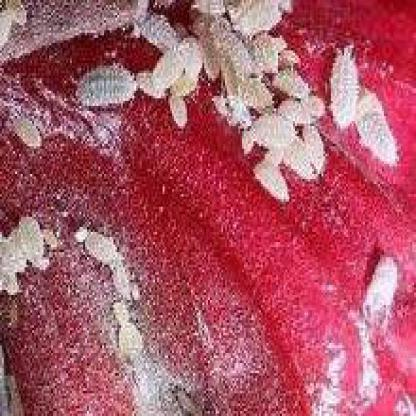mealy bug: (354, 93, 397, 160), (74, 66, 137, 107), (329, 51, 361, 130), (248, 110, 296, 149), (153, 49, 187, 90), (257, 164, 288, 200)
